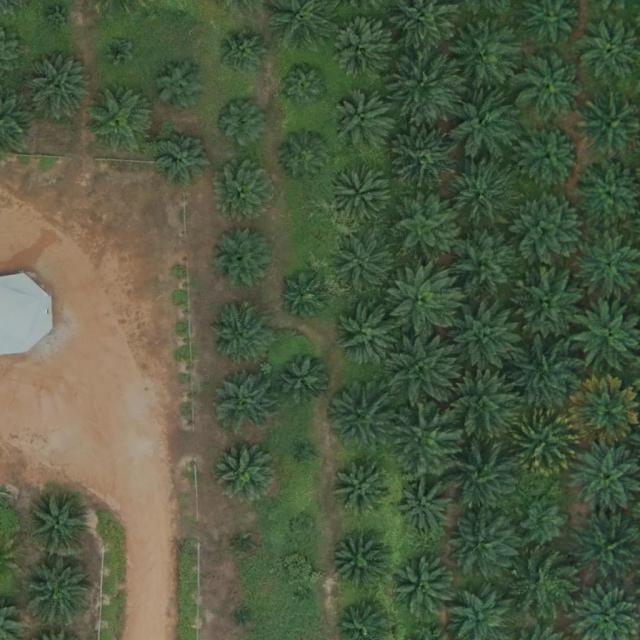Healthy: (515, 265, 586, 336), (326, 383, 397, 454), (24, 54, 94, 125), (86, 86, 156, 157), (391, 52, 462, 122), (389, 338, 459, 409), (452, 19, 522, 90), (450, 90, 520, 161), (446, 160, 517, 230), (451, 232, 522, 302), (452, 301, 522, 372), (514, 194, 584, 265), (515, 339, 585, 410), (570, 514, 640, 585), (447, 444, 517, 515), (450, 508, 520, 579), (391, 404, 461, 475), (26, 556, 96, 627), (392, 125, 462, 195), (389, 193, 459, 263), (388, 269, 458, 339), (517, 53, 587, 123), (446, 373, 516, 443), (209, 303, 272, 366), (329, 21, 392, 84), (520, 126, 583, 189), (392, 557, 455, 620), (214, 372, 277, 435), (215, 161, 278, 223), (212, 228, 275, 290), (333, 91, 395, 154), (330, 164, 392, 227), (336, 235, 398, 298), (337, 306, 400, 368), (213, 439, 275, 502), (27, 494, 89, 557), (515, 554, 577, 616), (159, 131, 214, 186), (278, 131, 333, 186), (398, 481, 453, 536), (277, 353, 332, 408), (155, 59, 209, 114), (215, 96, 269, 151), (336, 460, 390, 515), (332, 536, 386, 591), (282, 273, 329, 320), (521, 498, 568, 545)
Small: (217, 28, 271, 83), (281, 63, 328, 110), (45, 2, 76, 34), (104, 37, 135, 69), (293, 517, 317, 541), (301, 445, 317, 461), (236, 539, 252, 555), (299, 589, 314, 605), (236, 610, 252, 625)
Yellow: (509, 408, 580, 478)
